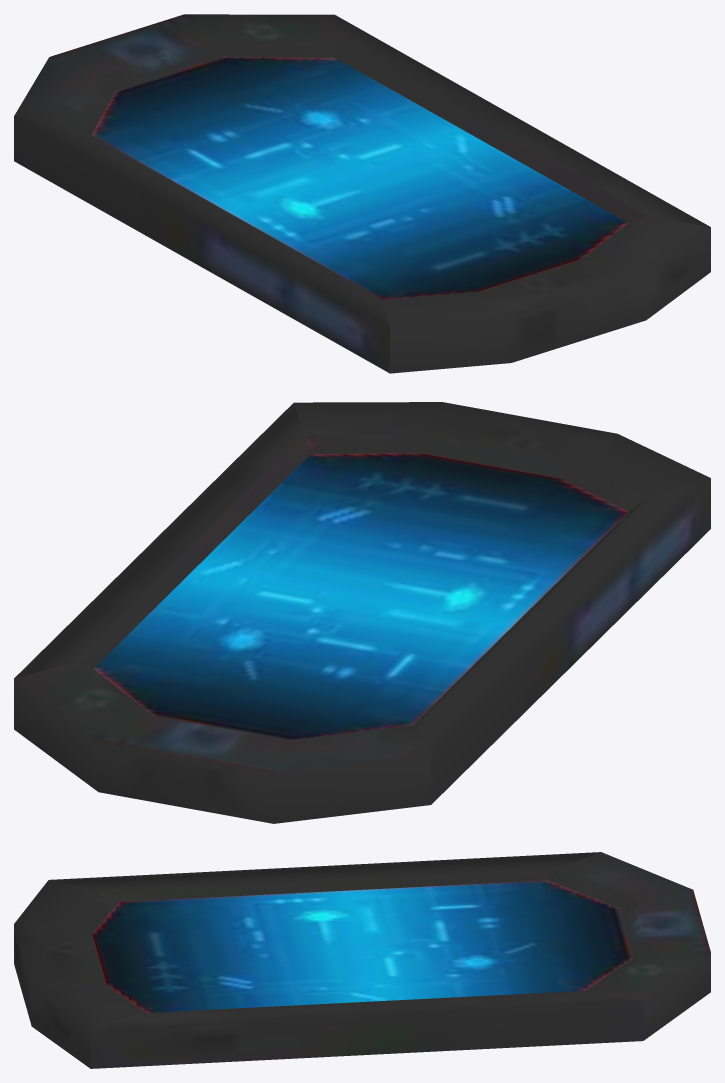
The model's file is smartphone.glb.
The picture shows the model from 3 angles, top to bottom: view 1: azimuth 30°, elevation 25°; view 2: azimuth 150°, elevation 25°; view 3: azimuth 270°, elevation 25°; orthographic projection. The views are drawn at different scales.
Visible parts, largest first — view 1: Tablette3_Objet2_0; view 2: Tablette3_Objet2_0; view 3: Tablette3_Objet2_0.
Part boxes in pixels (x1,y1,x2,y2): Tablette3_Objet2_0: [14, 14, 710, 373]; Tablette3_Objet2_0: [14, 402, 710, 823]; Tablette3_Objet2_0: [14, 852, 710, 1068].
Bounding box in the file's own units: 0.1016 × 0.0107 × 0.1691.
Materials: 1 (1 with a texture image).
